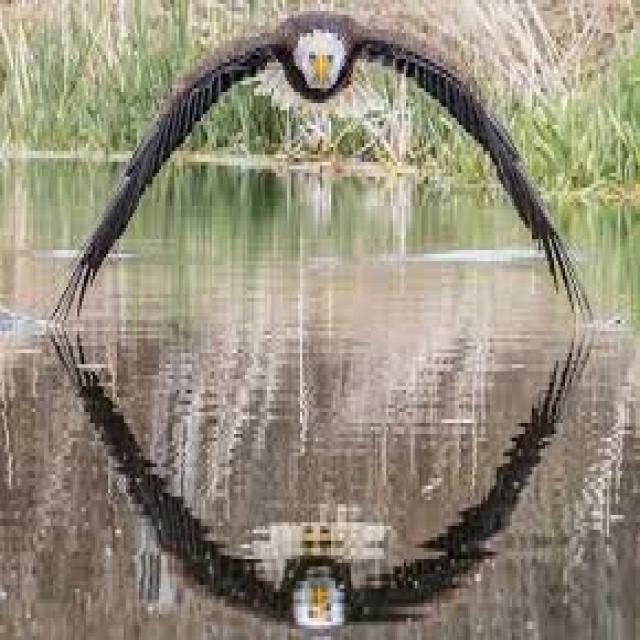eagle: (53, 11, 578, 316)
